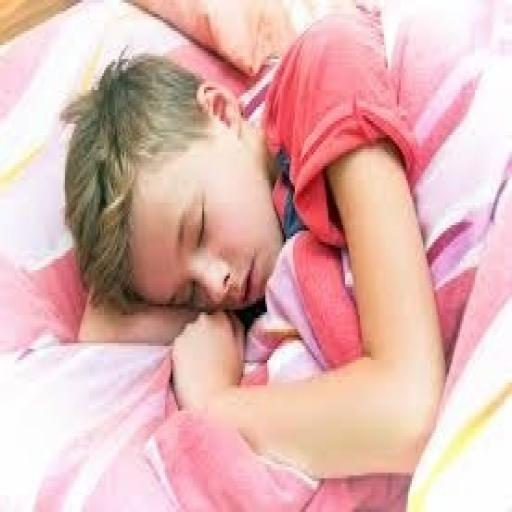sleeping: (58, 3, 510, 506)
